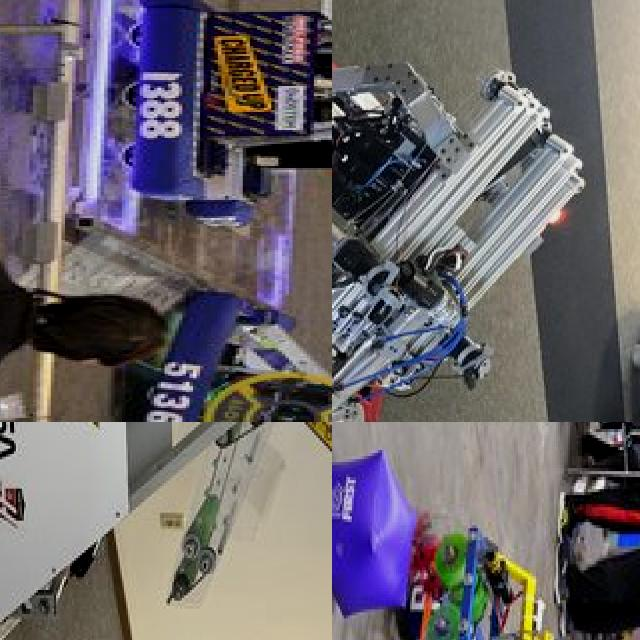FRC-Robots: (332, 15, 603, 422), (0, 422, 332, 640), (126, 0, 332, 230), (107, 286, 332, 422), (343, 573, 640, 640)
